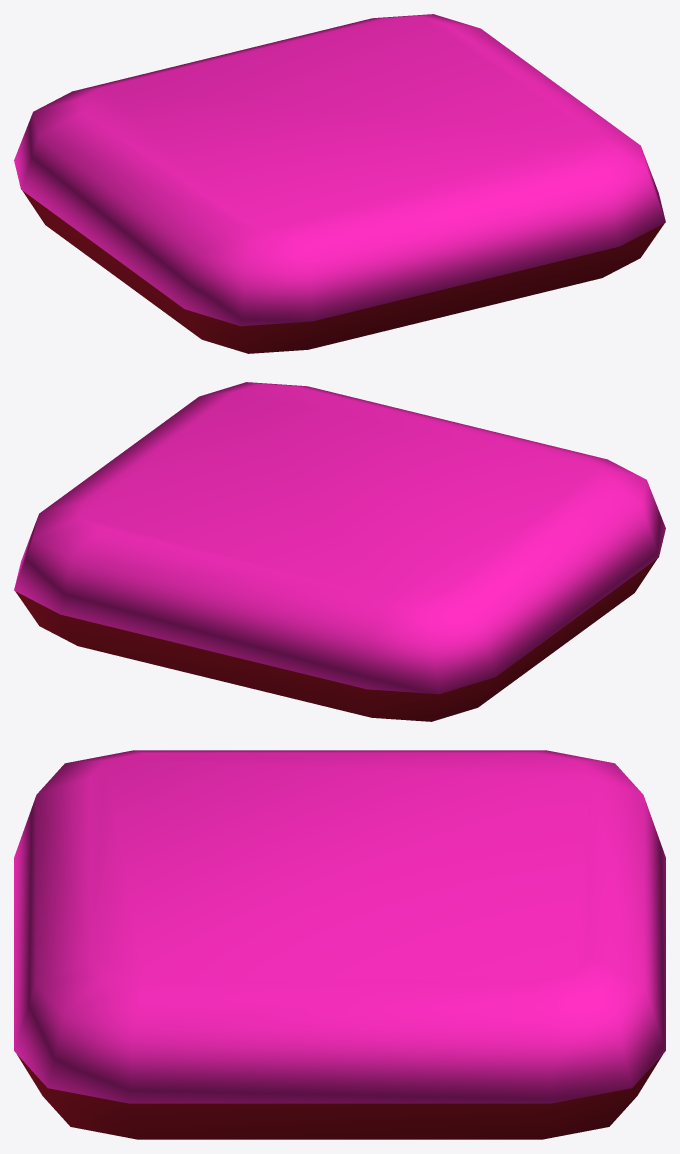
File: Dumper_square.gltf
The picture shows the model from 3 angles, top to bottom: view 1: azimuth 30°, elevation 25°; view 2: azimuth 150°, elevation 25°; view 3: azimuth 270°, elevation 25°; orthographic projection. The views are drawn at different scales.
Parts seen in each view (by area): view 1: Dumper_square_glb, Dumperb_square_glb; view 2: Dumper_square_glb, Dumperb_square_glb; view 3: Dumper_square_glb, Dumperb_square_glb.
Boxes of the visible parts, left/top/right/bottom form: Dumper_square_glb: left=14, top=14, right=665, bottom=326; Dumperb_square_glb: left=23, top=191, right=664, bottom=353; Dumper_square_glb: left=14, top=382, right=665, bottom=694; Dumperb_square_glb: left=15, top=559, right=656, bottom=721; Dumper_square_glb: left=14, top=750, right=665, bottom=1103; Dumperb_square_glb: left=17, top=1054, right=662, bottom=1139.
Size of the model in its own units: 0.9661 by 0.232 by 0.8916.
Materials: 1 (1 with a texture image).
